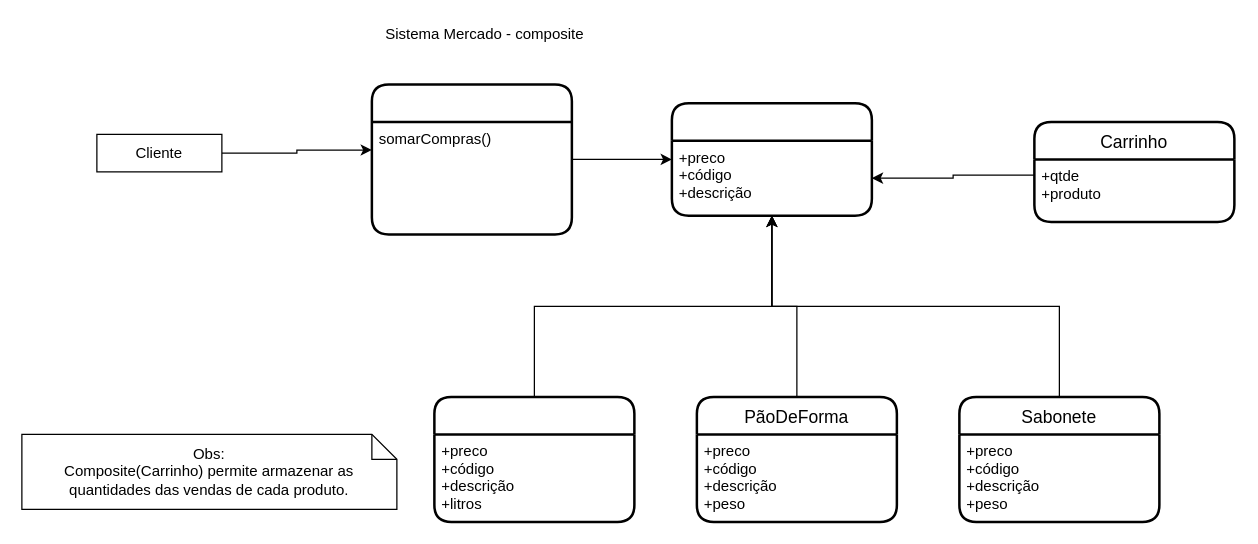
This 1258x544 diagram has some shape labels left out. The shapes that lost their labels are listed below. From the top down, each one's box as (x1, y1, x2, y2) in pixels, then its label:
(370, 82, 572, 235): Caixa()
(670, 101, 872, 216): Produto
(432, 395, 635, 522): Leite
